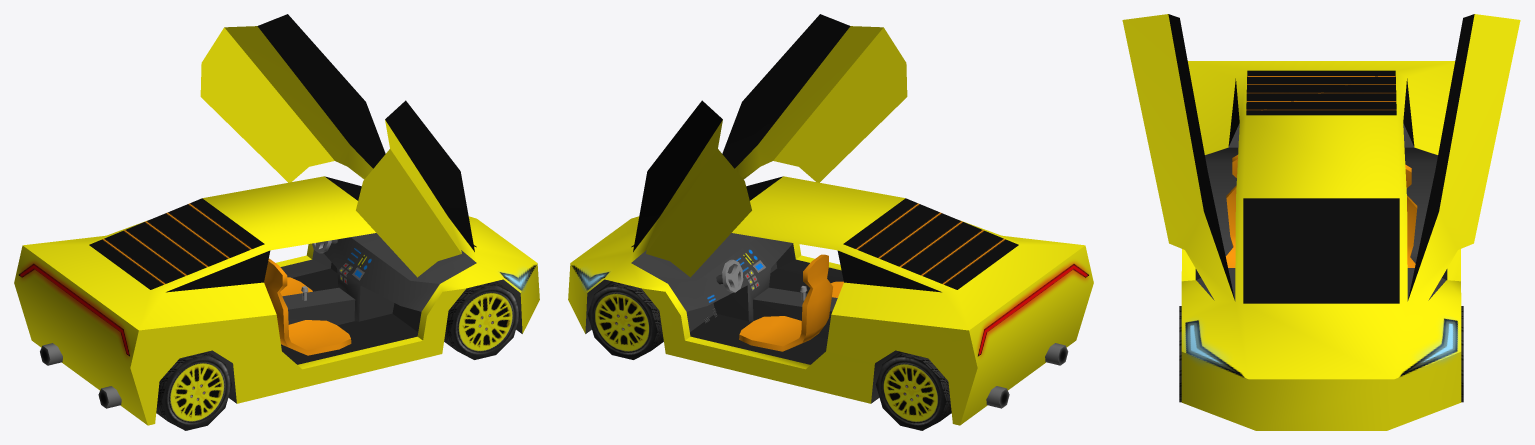
File: Car4.FBX
3 views of the same model, side by side, from view 1: azimuth 30°, elevation 25°; view 2: azimuth 150°, elevation 25°; view 3: azimuth 270°, elevation 25° (orthographic). The views are drawn at different scales.
Visible parts, largest first — view 1: Box002; view 2: Box002; view 3: Box002.
Boxes of the visible parts, x1=… form: Box002: x1=14, y1=14, x2=539, y2=430; Box002: x1=568, y1=14, x2=1093, y2=430; Box002: x1=1122, y1=14, x2=1520, y2=430.
Bounding box in the file's own units: 204 × 123 × 133.
